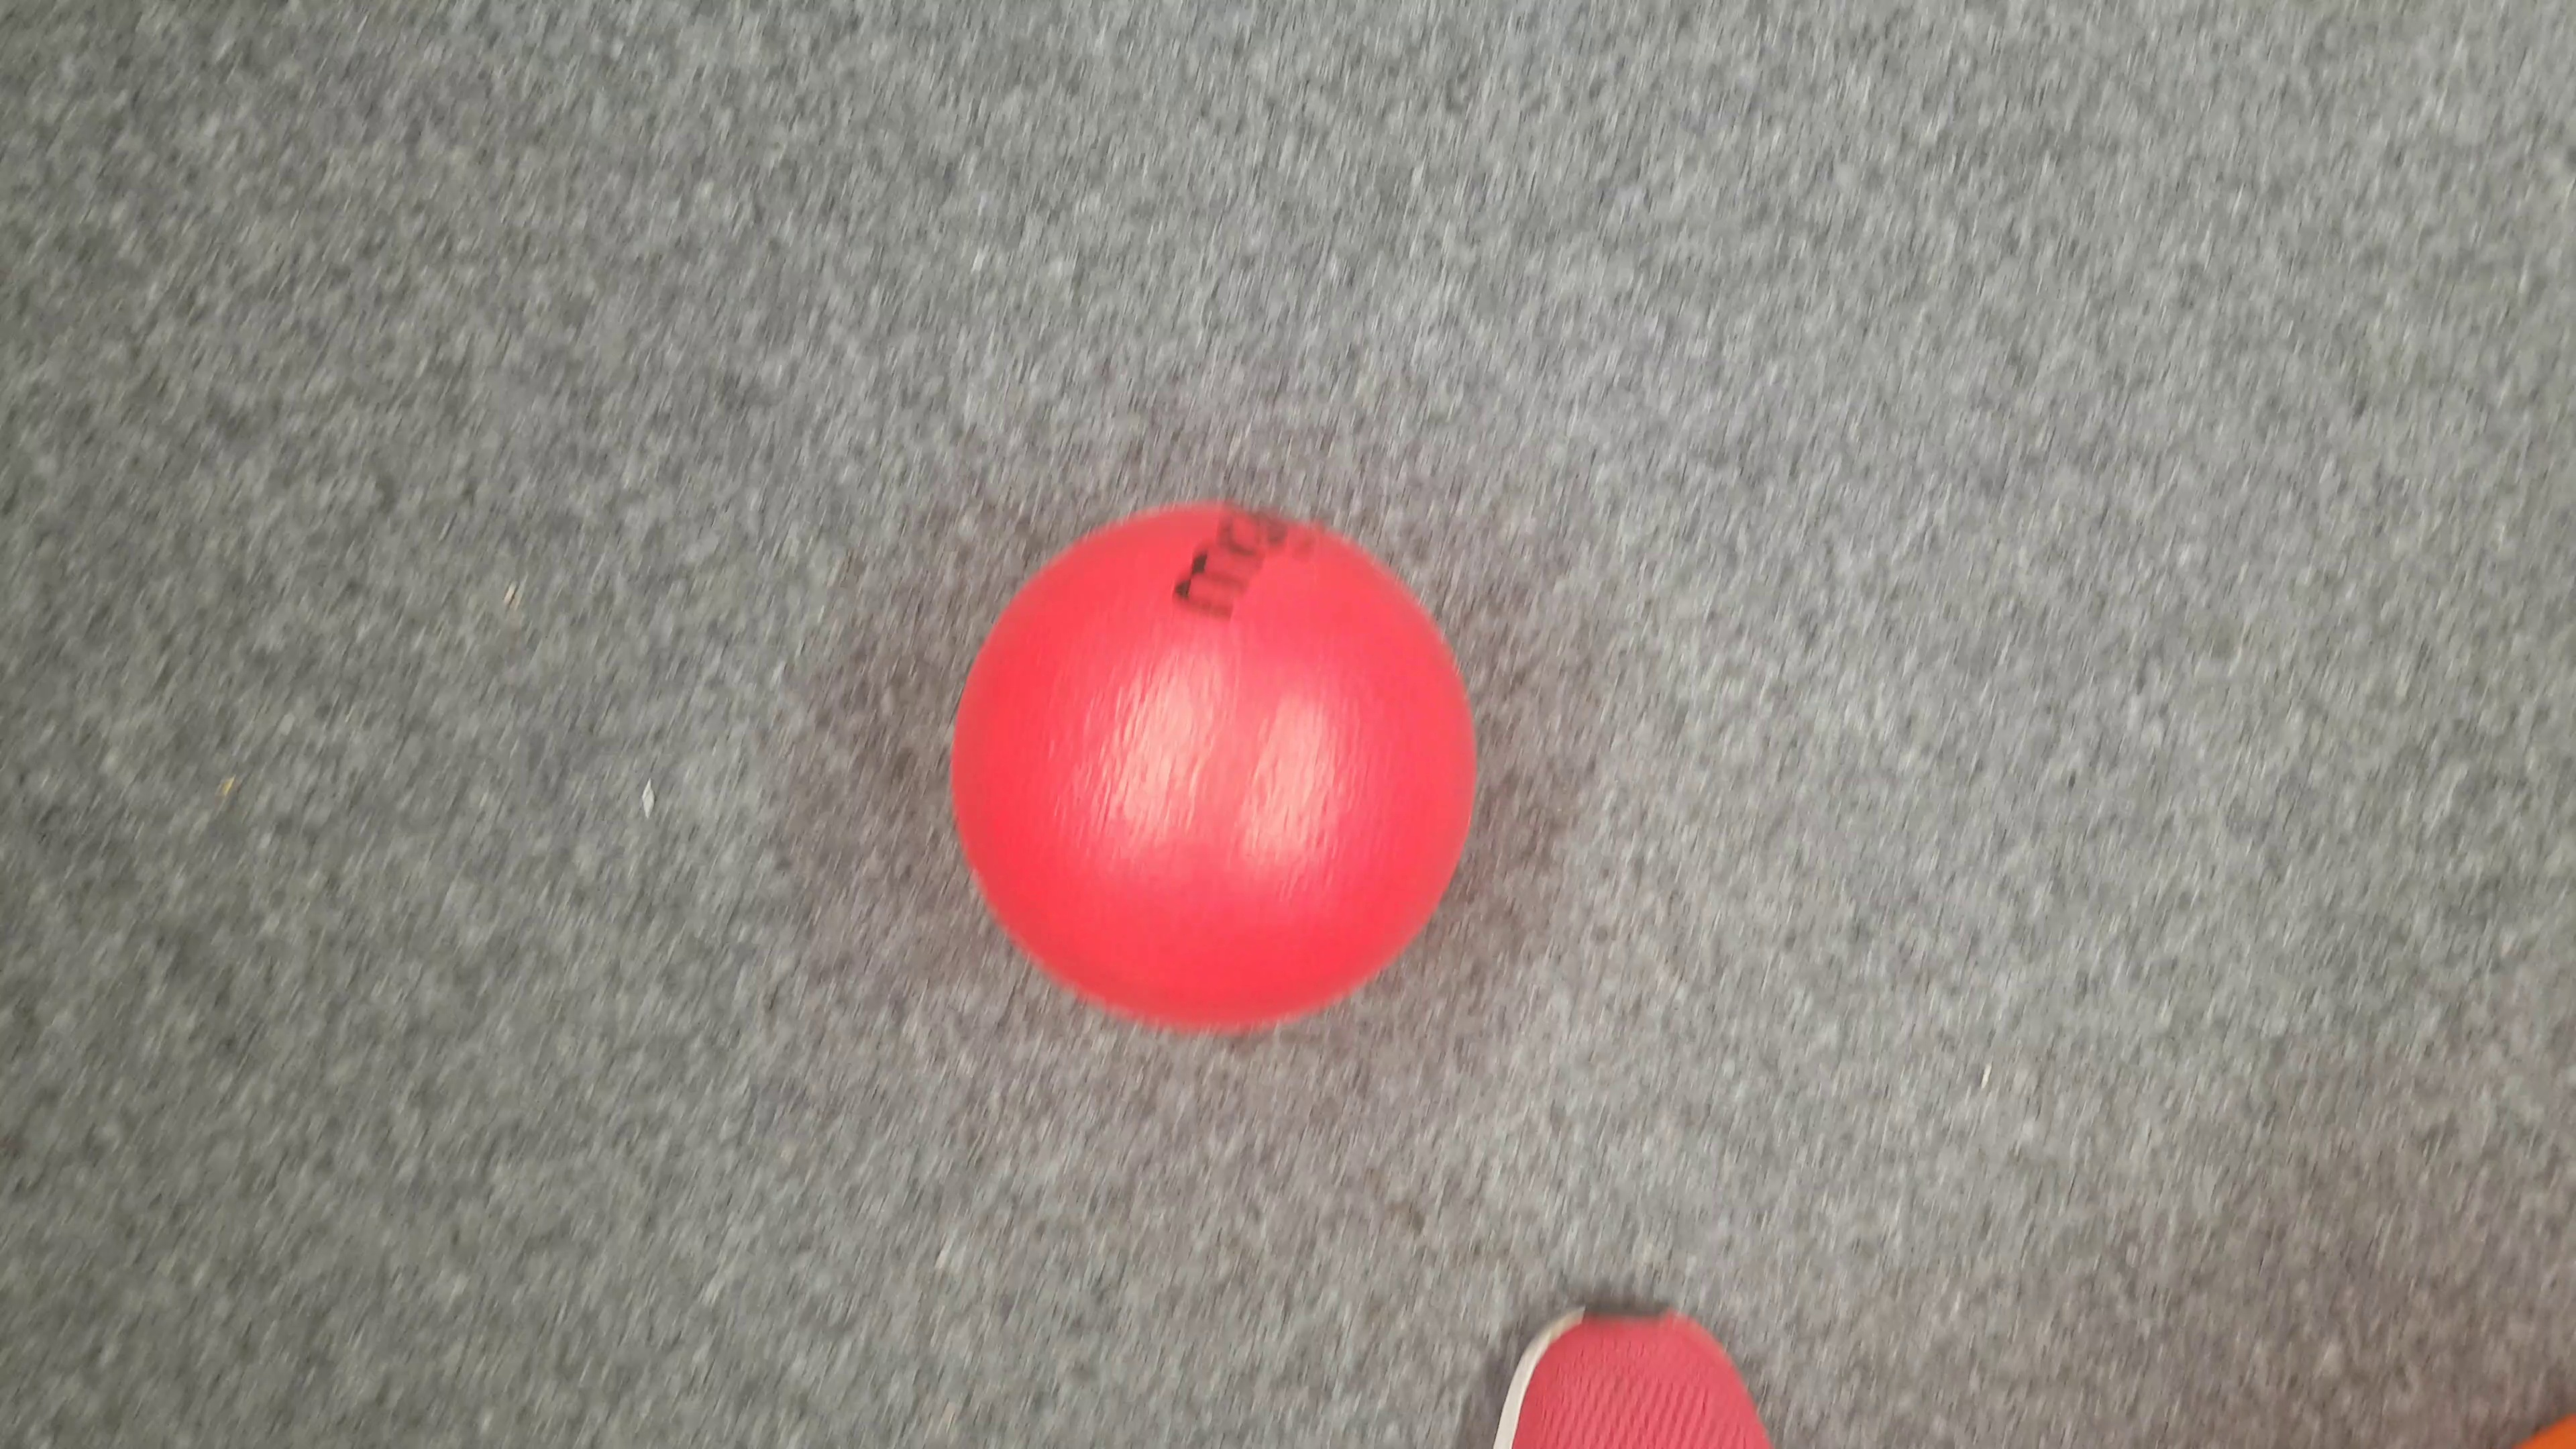kick: (957, 492, 1486, 1031)
